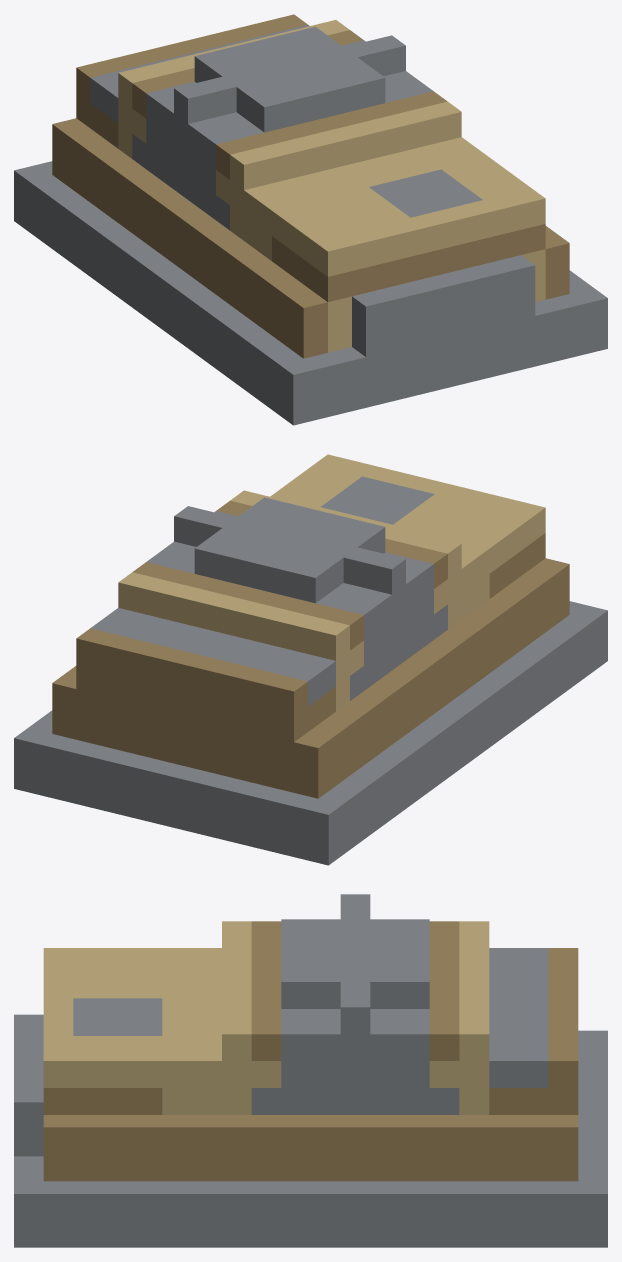
File: foot_r.glb
3 renders of one model, top to bottom at view 1: azimuth 30°, elevation 25°; view 2: azimuth 150°, elevation 25°; view 3: azimuth 270°, elevation 25°, orthographic. The views are drawn at different scales.
Size of the model in its own units: 13 by 8 by 20.
